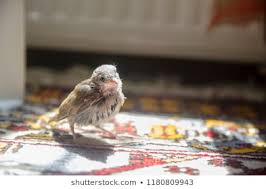home_sparrow: (44, 59, 131, 145)
